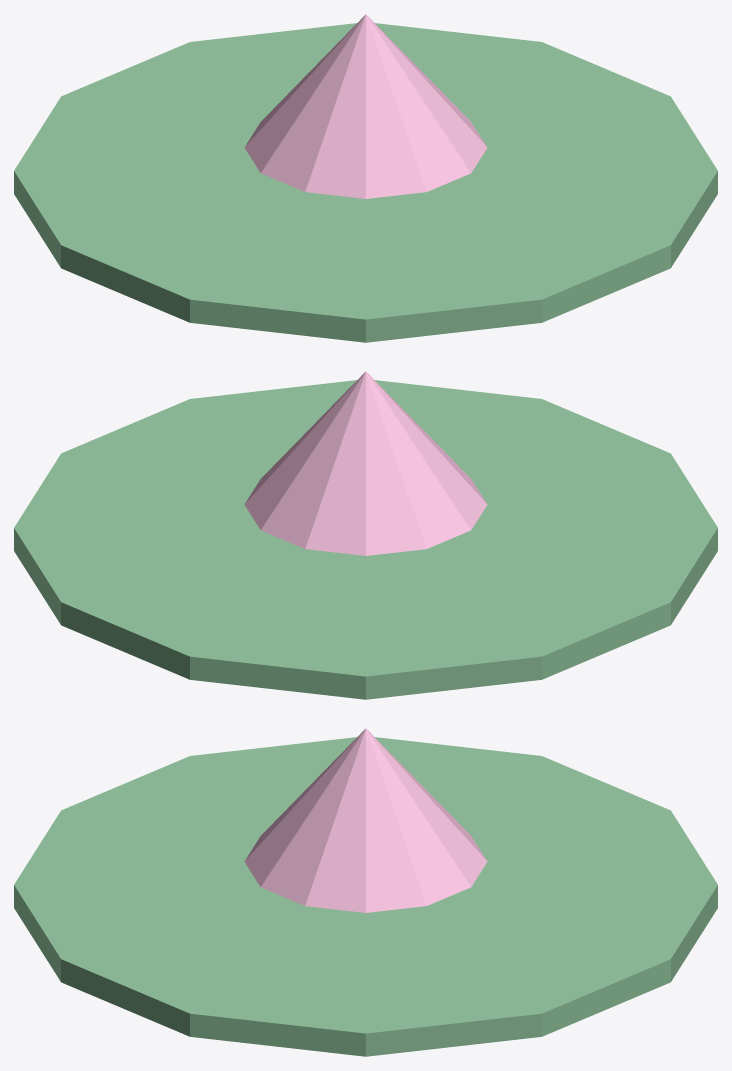
Rendered from lily_pad.glb.
The picture shows the model from 3 angles, top to bottom: view 1: azimuth 30°, elevation 25°; view 2: azimuth 150°, elevation 25°; view 3: azimuth 270°, elevation 25°; orthographic projection.
Parts seen in each view (by area): view 1: pad, flower; view 2: pad, flower; view 3: pad, flower.
Boxes of the visible parts, left/top/right/bottom form: pad: left=14, top=23, right=717, bottom=342; flower: left=244, top=14, right=487, bottom=198; pad: left=14, top=380, right=717, bottom=699; flower: left=244, top=371, right=487, bottom=555; pad: left=14, top=737, right=717, bottom=1056; flower: left=244, top=728, right=487, bottom=912.
Bounding box in the file's own units: 1.1 × 0.31 × 1.1.
